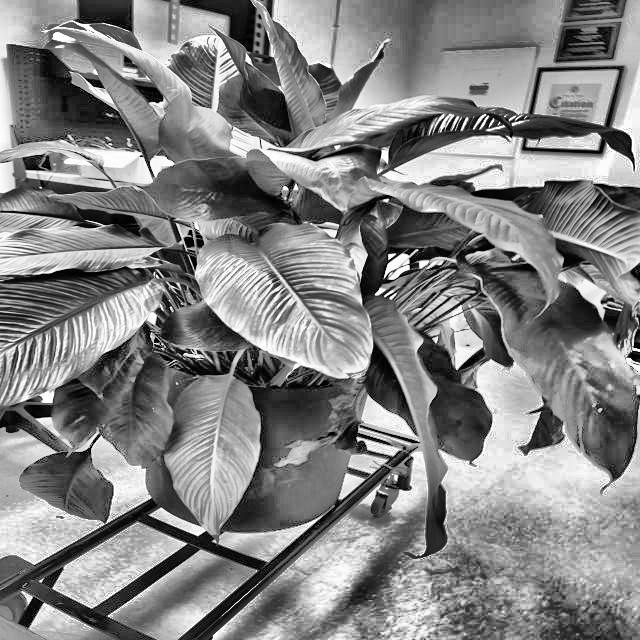plants: (14, 17, 636, 397)
